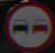No overtake: (7, 5, 53, 42)
